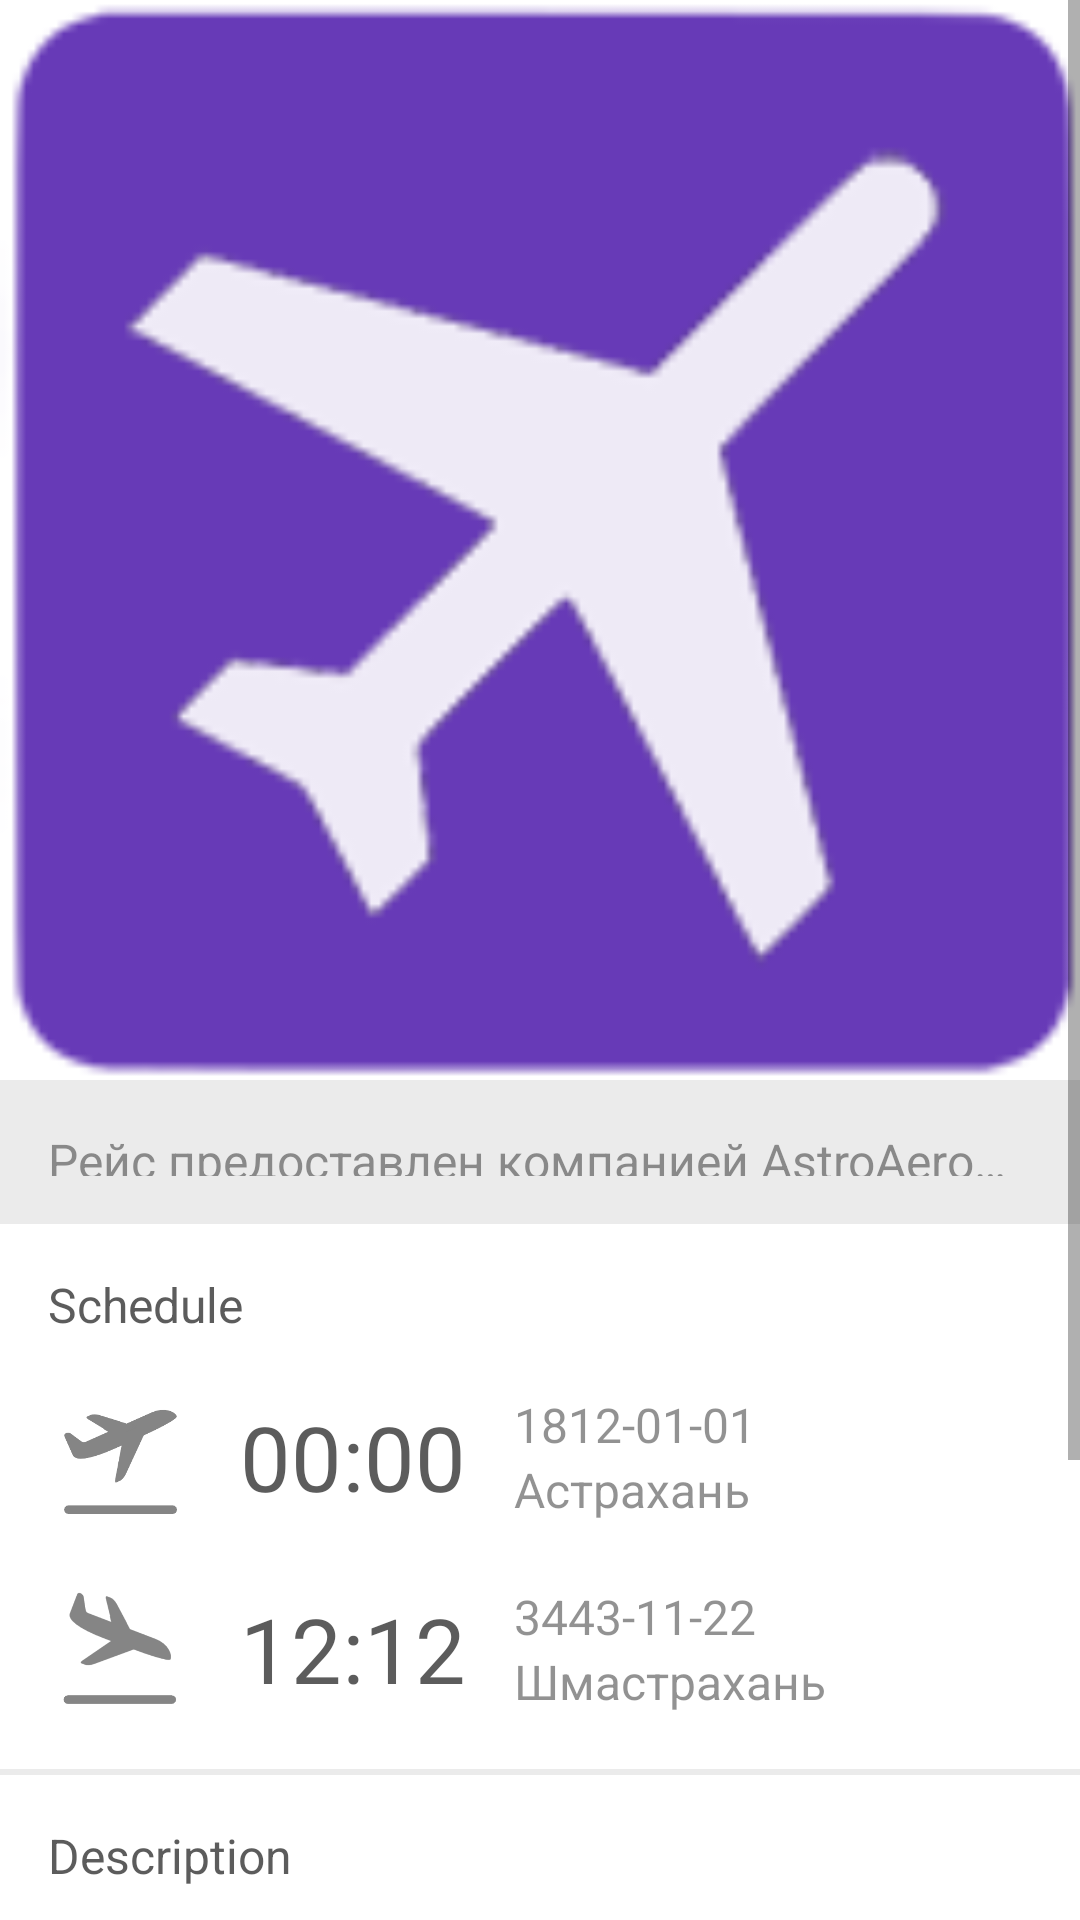

Where icons sit on this 1080px x 1920px app screen, as (x1, y1, x2, y2):
landing: (63, 1593, 176, 1704)
takeoff: (64, 1410, 177, 1514)
